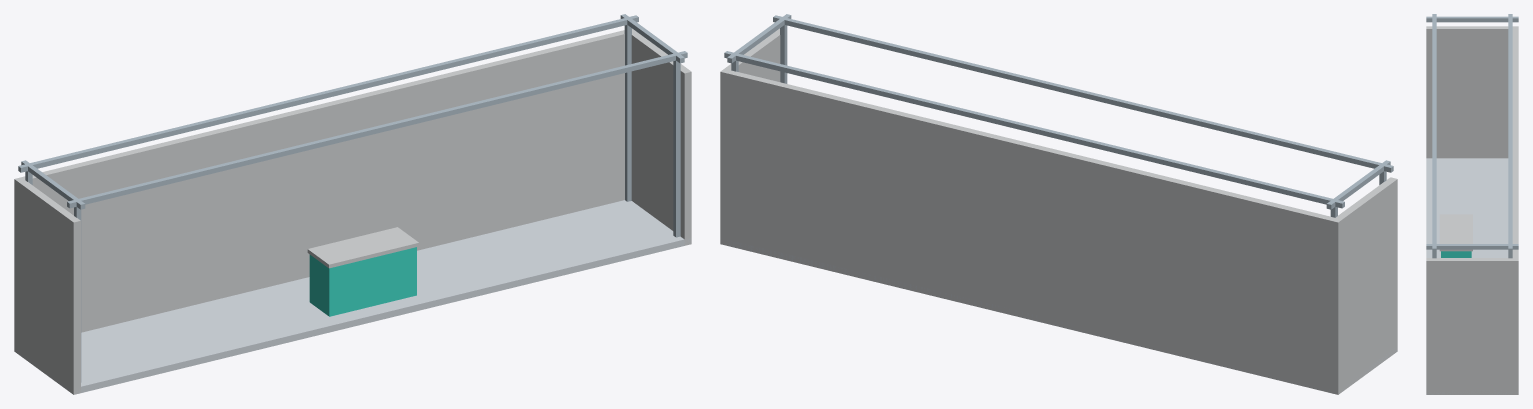
The picture shows the model from 3 angles, left to right: view 1: azimuth 30°, elevation 25°; view 2: azimuth 150°, elevation 25°; view 3: azimuth 270°, elevation 25°; orthographic projection. The views are drawn at different scales.
Parts seen in each view (by area): view 1: Exhibition Booth Concept; view 2: Exhibition Booth Concept; view 3: Exhibition Booth Concept.
Boxes of the visible parts, bbox=[...] form: Exhibition Booth Concept: bbox=[14, 14, 691, 394]; Exhibition Booth Concept: bbox=[720, 14, 1397, 394]; Exhibition Booth Concept: bbox=[1426, 14, 1518, 394].
Size of the model in its own units: 12 by 3.49 by 2.
